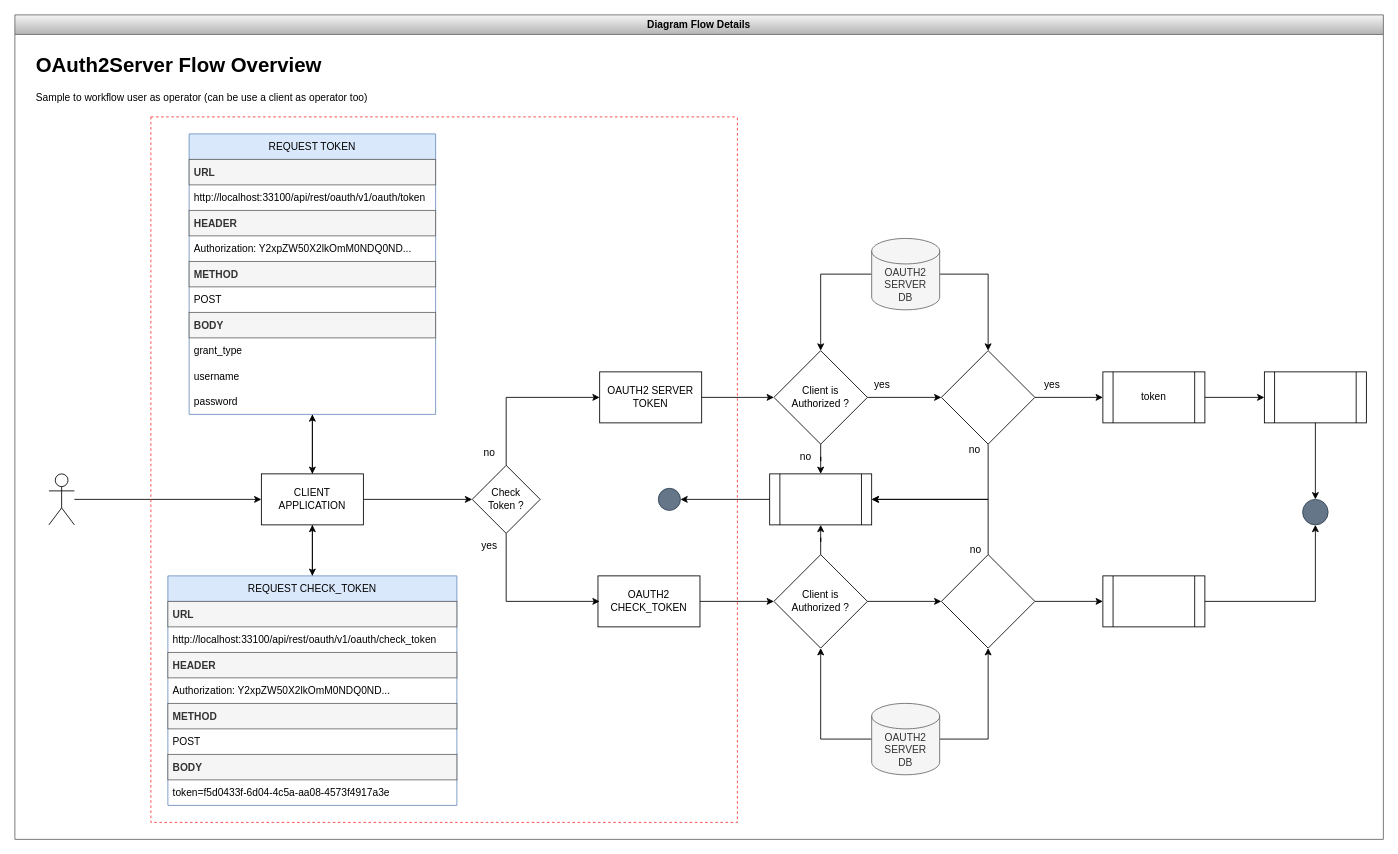
The diagram is 1398 pixels wide and 854 high, and some of its shapes have lost their labels. The centre of each missing label's shape, as x and y in pixels:
"Client/OAuth2 Integration" belongs at (x=443, y=469).
"OPERATOR" belongs at (x=61, y=499).
"Operator is Authenticate ?" belongs at (x=988, y=397).
"response error to client" belongs at (x=820, y=499).
"response ok to client" belongs at (x=1153, y=601).
"response token to client" belongs at (x=1315, y=397).
"Token is Valid ?" belongs at (x=988, y=601).
